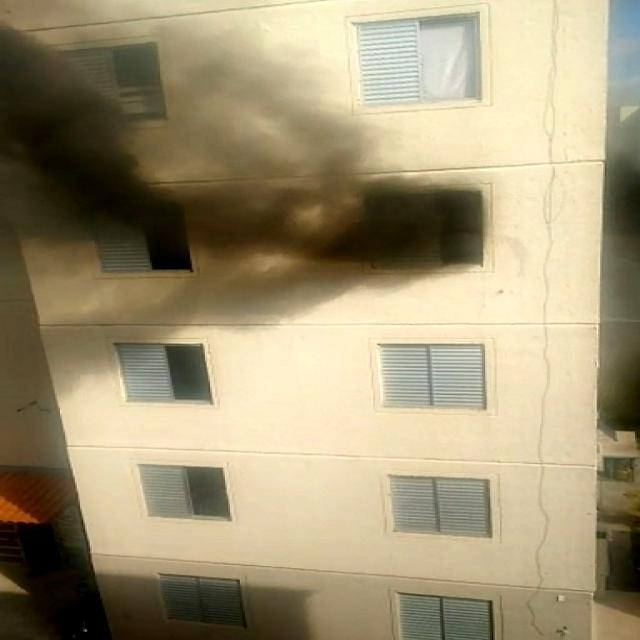Smoke: (0, 20, 473, 296)
